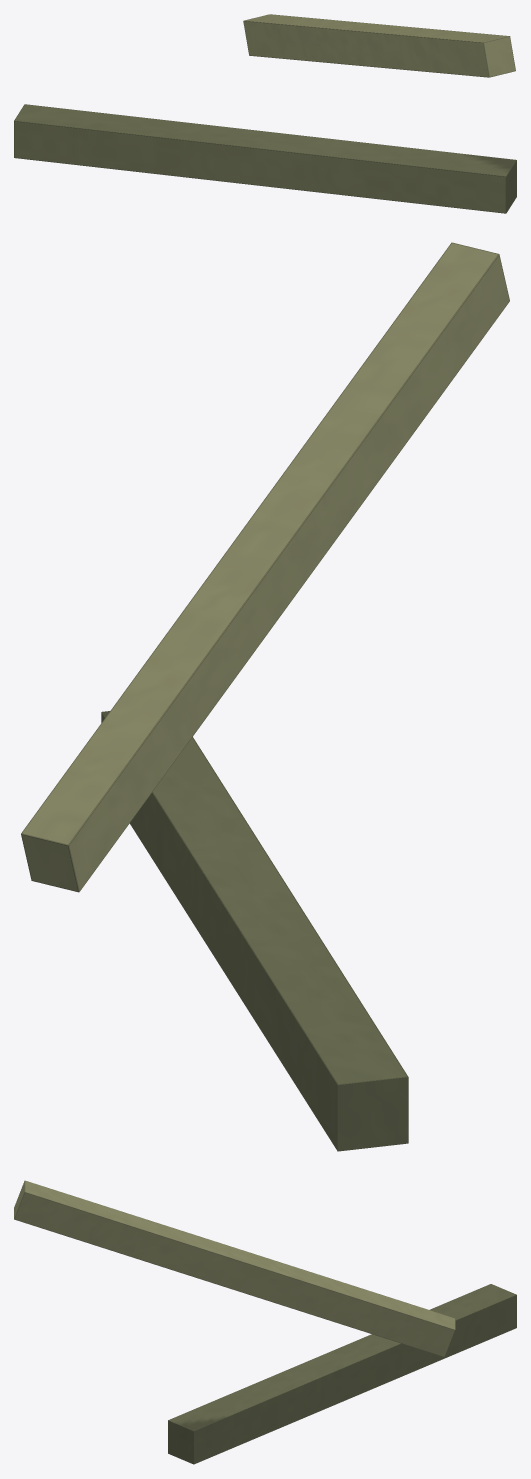
Rendered from purlin-under-hip.glb.
3 views of the same model, one above another, from view 1: azimuth 30°, elevation 25°; view 2: azimuth 150°, elevation 25°; view 3: azimuth 270°, elevation 25° (orthographic). The views are drawn at different scales.
Visible parts, largest first — view 1: part-a, part-b; view 2: part-b, part-a; view 3: part-b, part-a.
Boxes of the visible parts, x1=… form: part-a: x1=14, y1=104, x2=516, y2=213; part-b: x1=243, y1=14, x2=515, y2=77; part-b: x1=21, y1=242, x2=509, y2=892; part-a: x1=101, y1=711, x2=408, y2=1151; part-b: x1=14, y1=1180, x2=455, y2=1357; part-a: x1=168, y1=1284, x2=516, y2=1464.
Bounding box in the file's own units: 1.15 × 0.8273 × 1.65.
